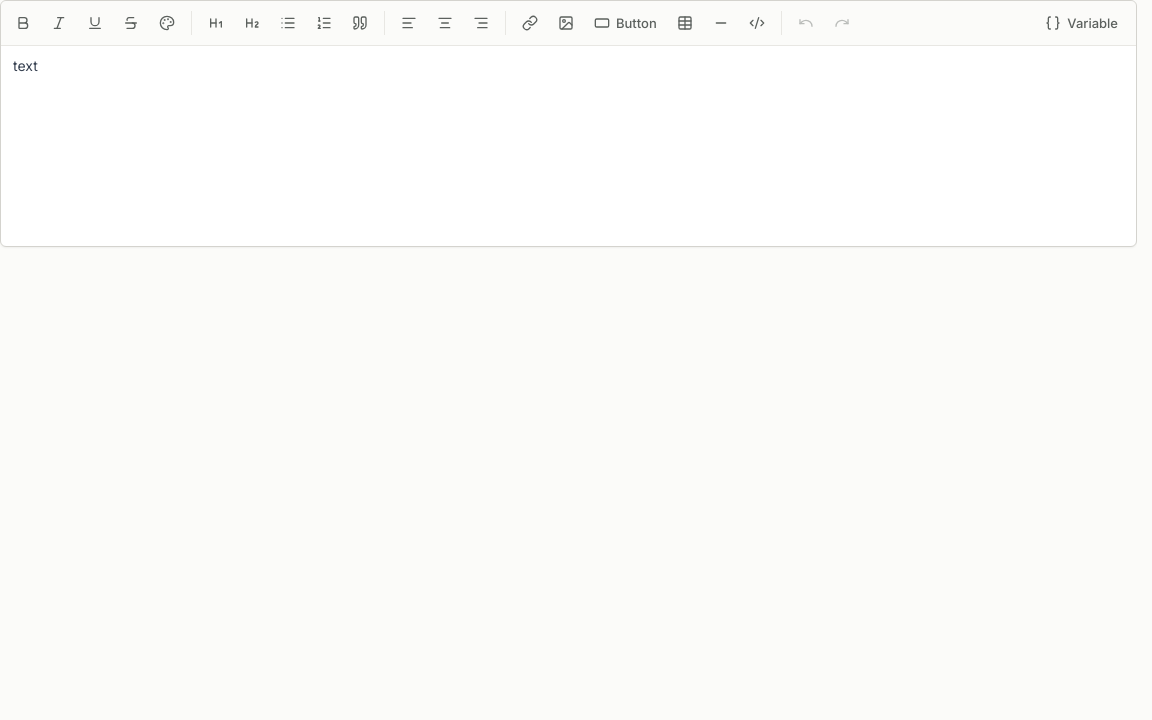
Test: RichTextEditor › refuses a scheme with no address after it
This screenshot has width=1152, height=720.
Click the button named "Link" at (530, 23), box left=514, top=7, right=546, bottom=39
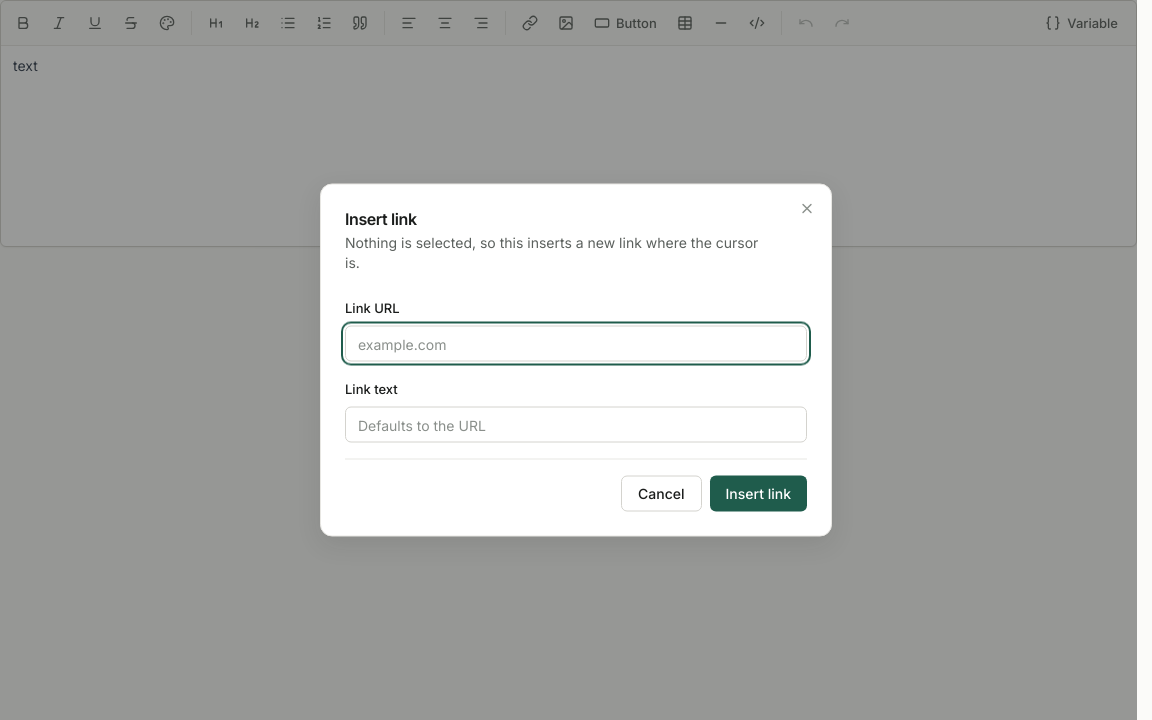
Type "https://" into the field labelled "Link URL" at (576, 344), box left=345, top=326, right=807, bottom=362
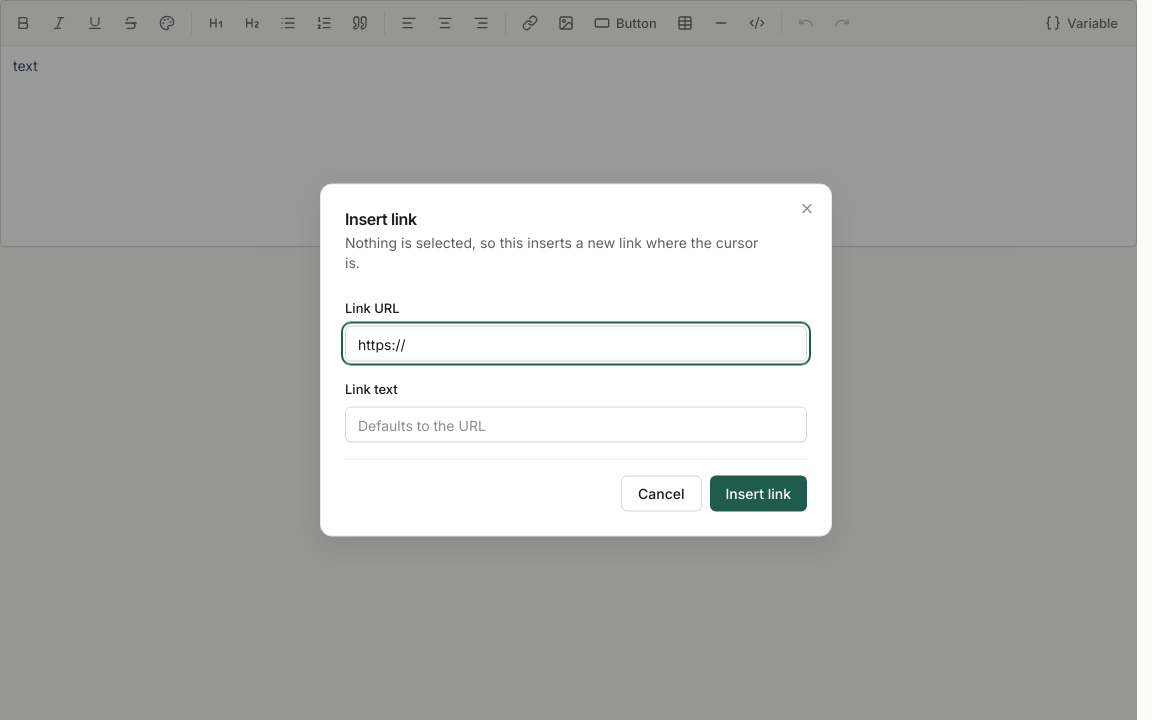
Click the button "Insert link" at (758, 494), box left=710, top=476, right=807, bottom=512
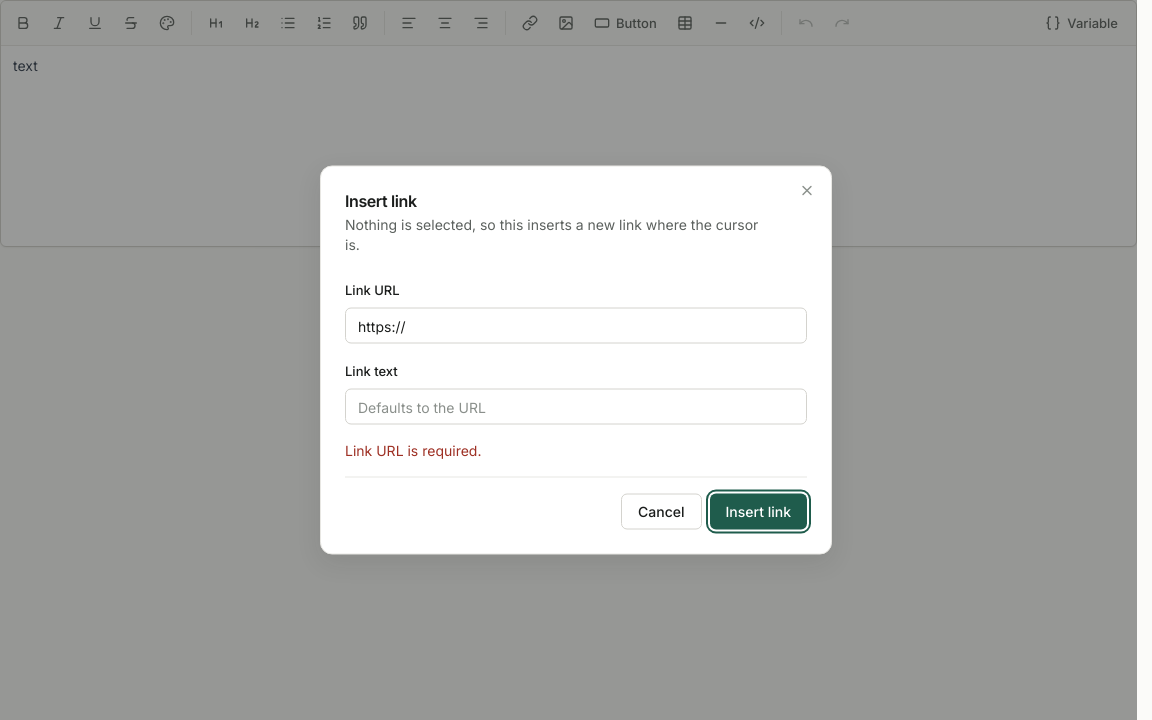
Expected: the message shows "Link URL is required", left=345, top=442, right=482, bottom=458
